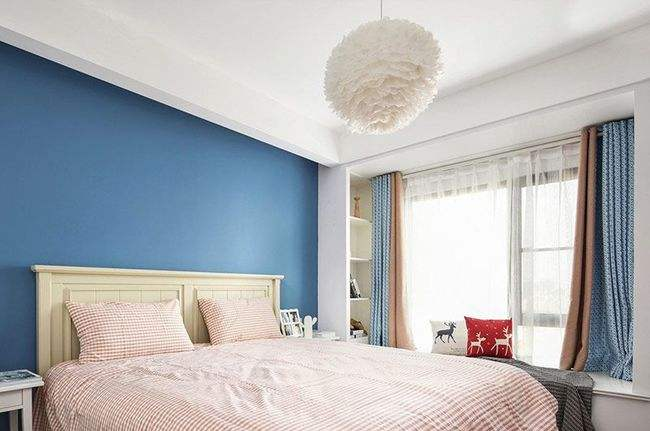床: (52, 342, 556, 429)
枕头: (65, 299, 195, 363), (192, 293, 285, 342), (429, 316, 515, 359)
灯: (317, 12, 447, 143)
